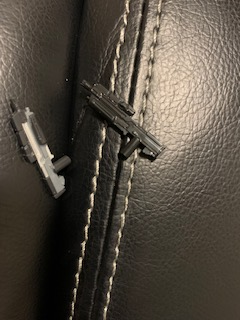rifle: (80, 77, 165, 164), (5, 97, 73, 202)
